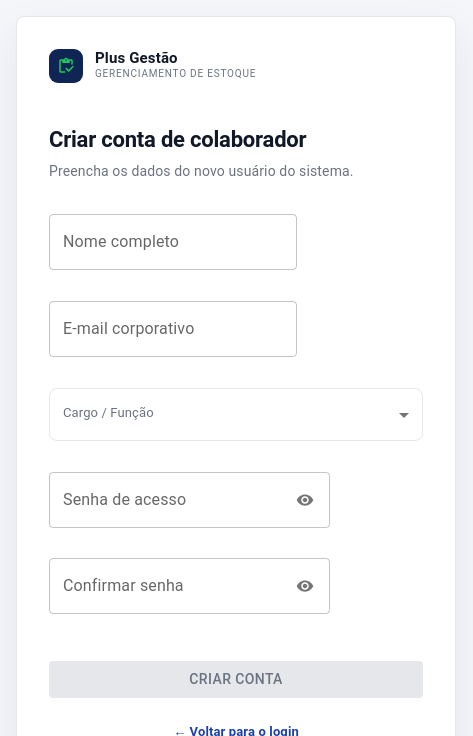
Scenario: SignupPage — Criar Conta de Colaborador › submit com form válido exibe tela de sucesso
Type "Ana Gestora" into the field labelled "Nome completo" at (173, 242), box [49, 214, 297, 270]
Type "ana@plus.com" into the field labelled "E-mail corporativo" at (173, 329), box [49, 301, 297, 357]
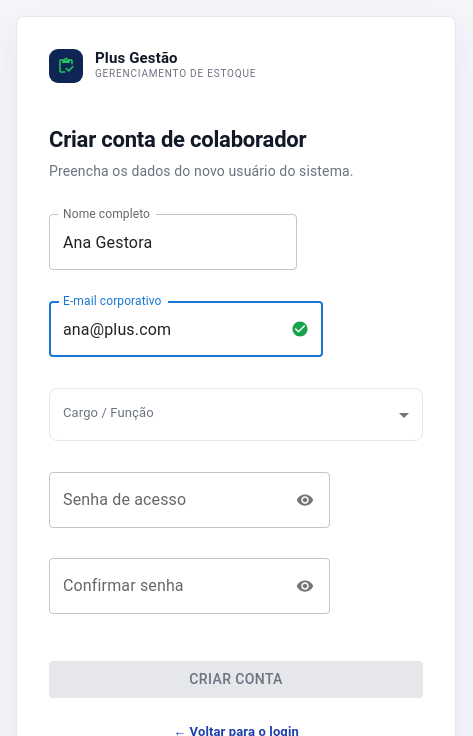
Click the dropdown at (236, 415), box [49, 388, 423, 441]
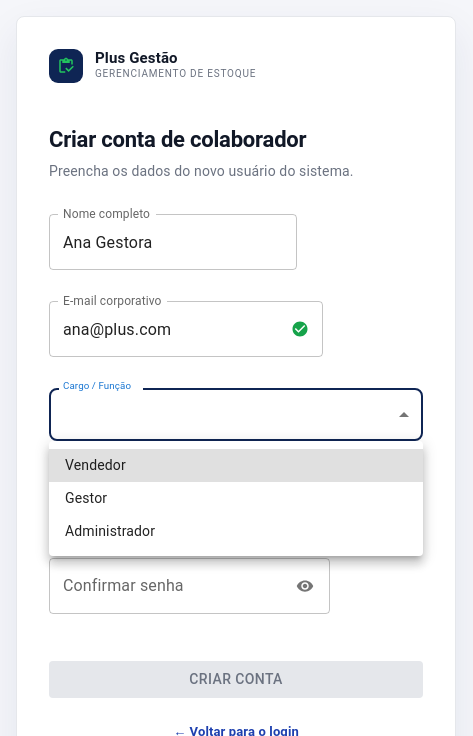
Click the option "Gestor" at (86, 498), box [65, 490, 107, 506]
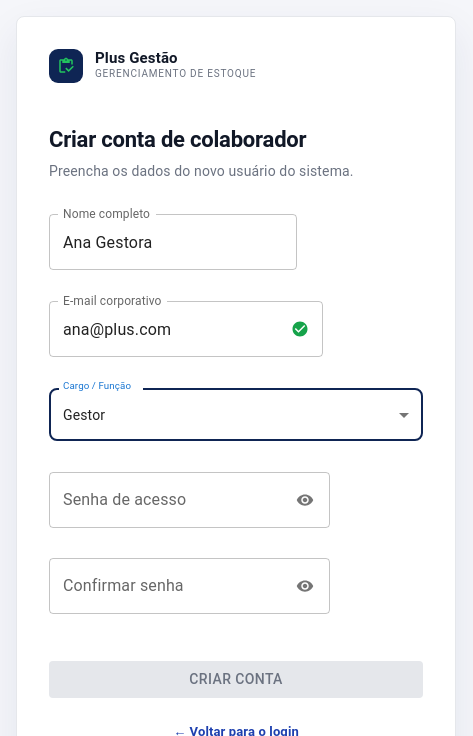
Type "Senh@Forte1" into the password field labelled "Senha de acesso" at (166, 500), box [49, 472, 283, 528]
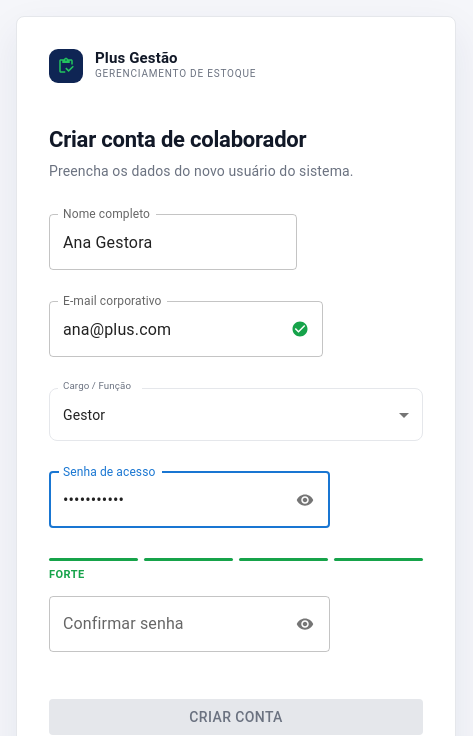
Type "Senh@Forte1" into the password field labelled "Confirmar senha" at (166, 624), box [49, 596, 283, 652]
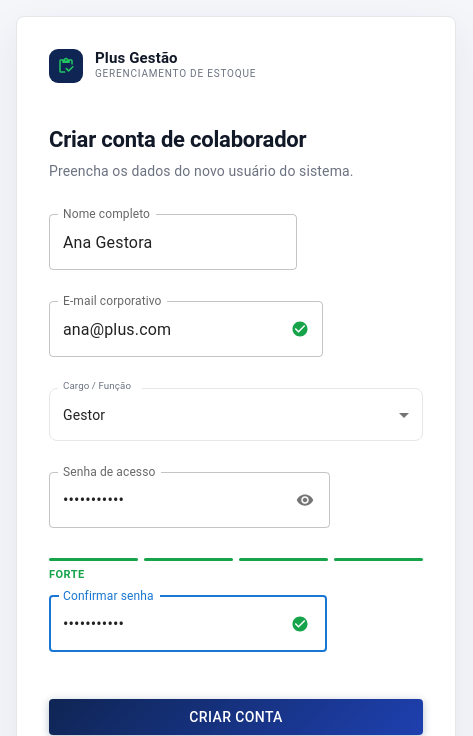
Result: the button "Criar conta" is enabled
Click the button "Criar conta" at (236, 717), box [49, 699, 423, 735]
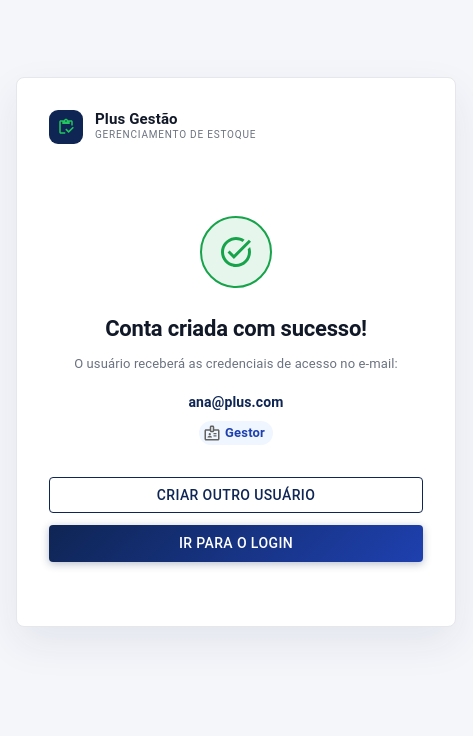
Result: the text "Conta criada com sucesso!" is shown at [105, 316, 367, 342]
